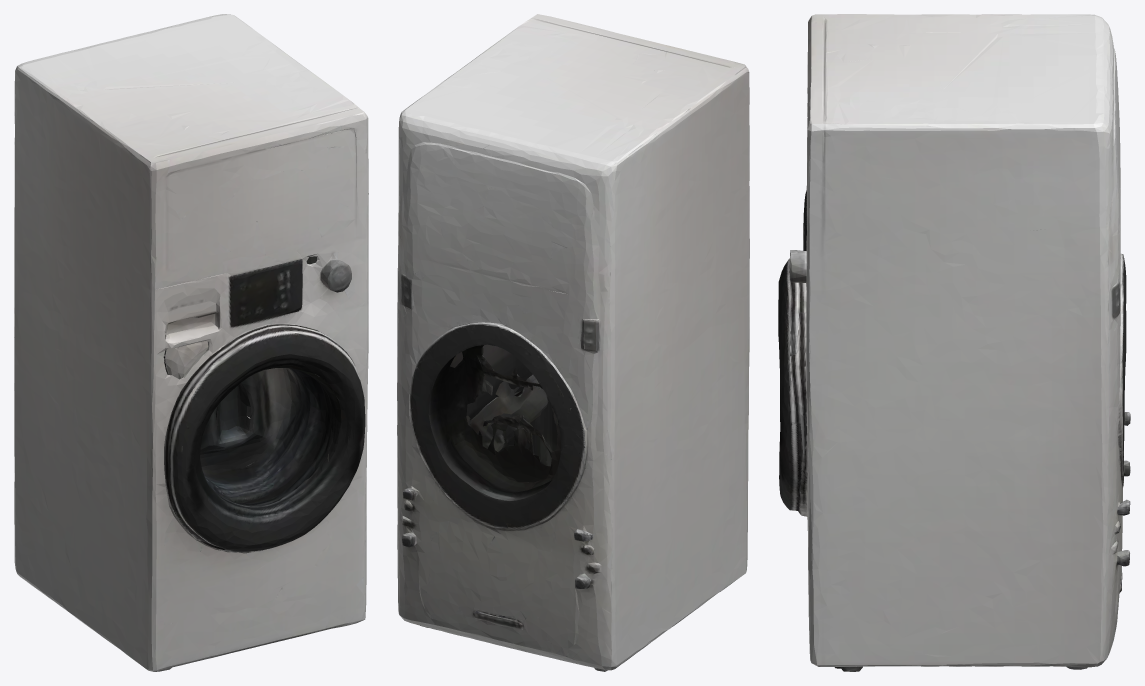
File: ast_980f1a89dee5.glb
3 views of the same model, side by side, from view 1: azimuth 30°, elevation 25°; view 2: azimuth 150°, elevation 25°; view 3: azimuth 270°, elevation 25° (orthographic). The views are drawn at different scales.
Visible parts, largest first — view 1: geometry_0; view 2: geometry_0; view 3: geometry_0.
Boxes of the visible parts, box(x1,y1,x2,y2) form: geometry_0: box(14, 14, 368, 671); geometry_0: box(397, 14, 749, 671); geometry_0: box(778, 14, 1130, 671).
Size of the model in its own units: 0.4374 by 0.9982 by 0.5759.
1 material, 1 textured.
